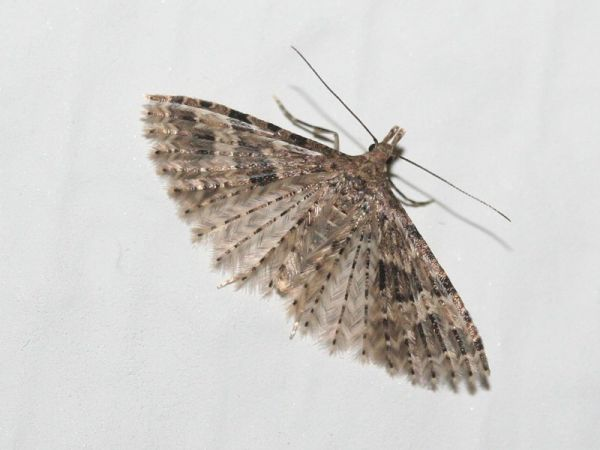Alucitidae: (140, 49, 517, 402)
moth: (138, 47, 515, 400)
